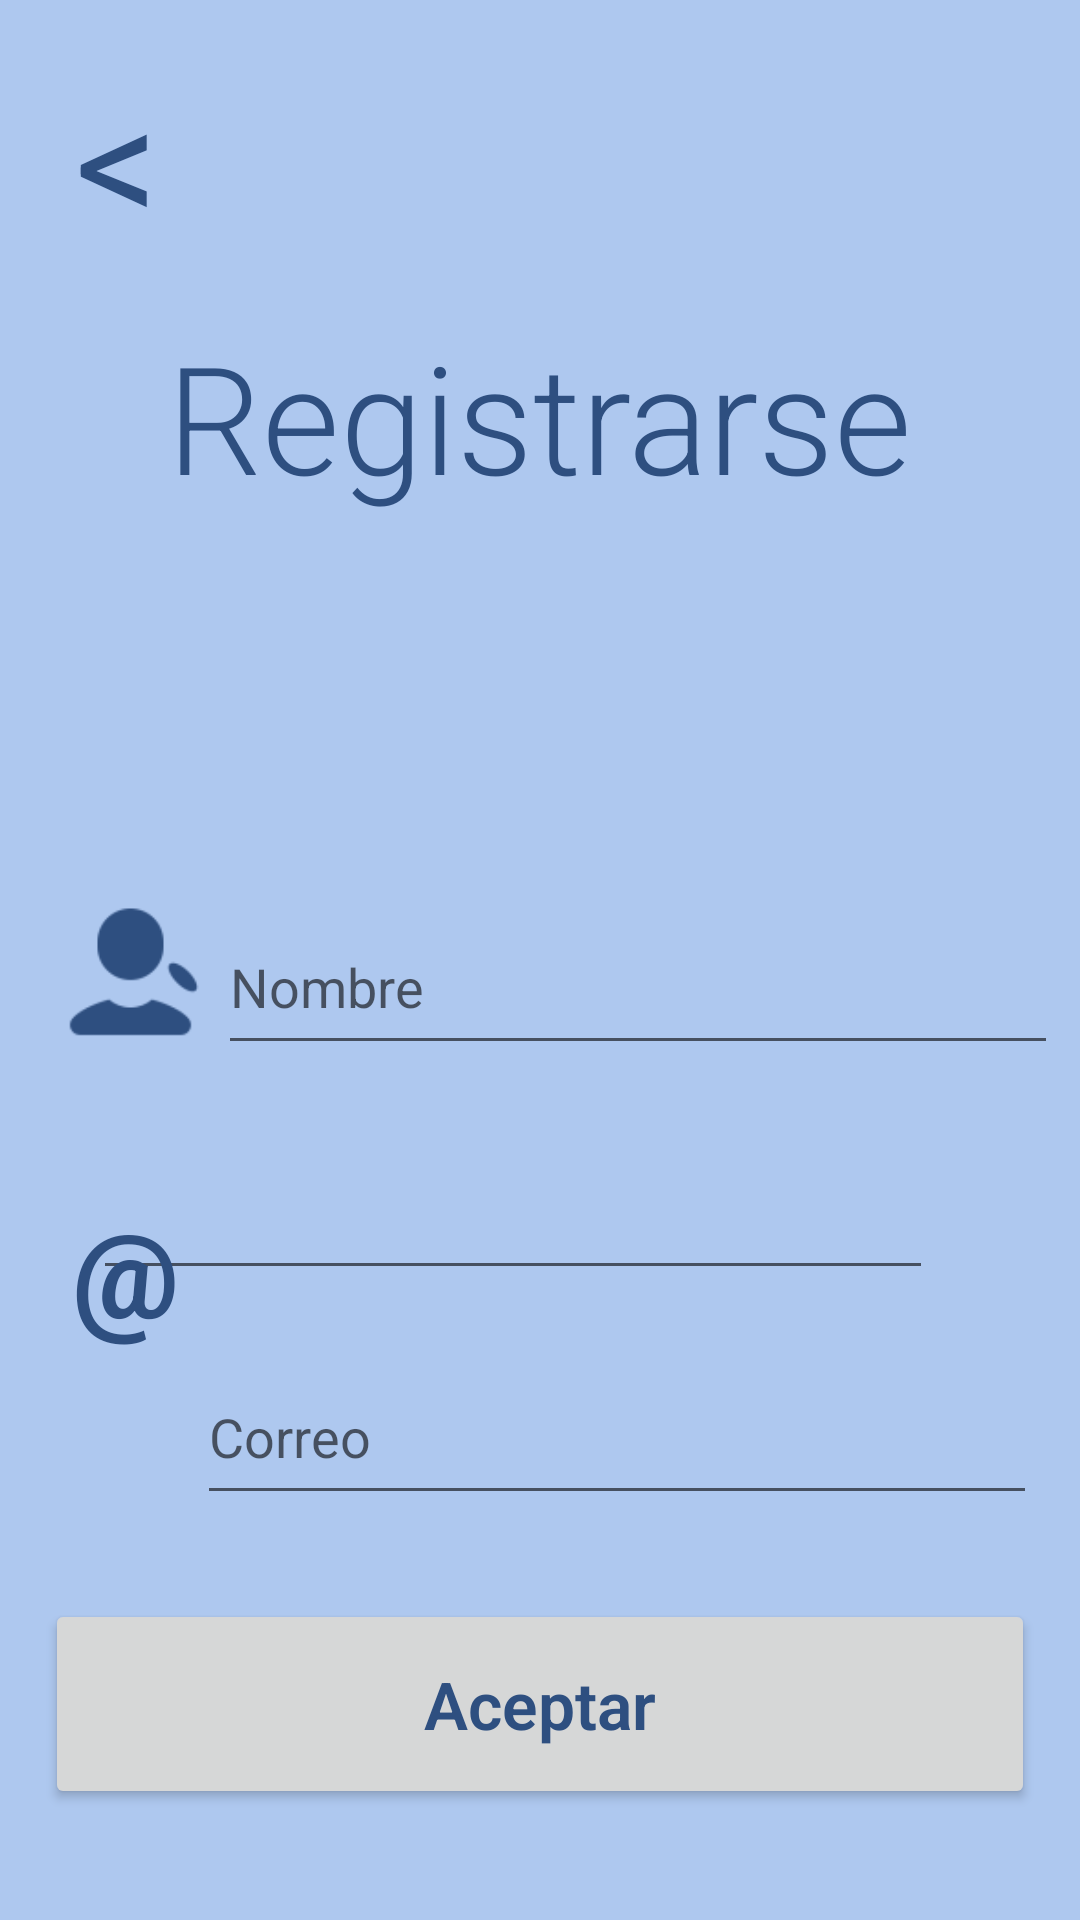

Named icons in this screenshot (1080px×1920px) and their centers, [x,y]:
persona: [133,972]
